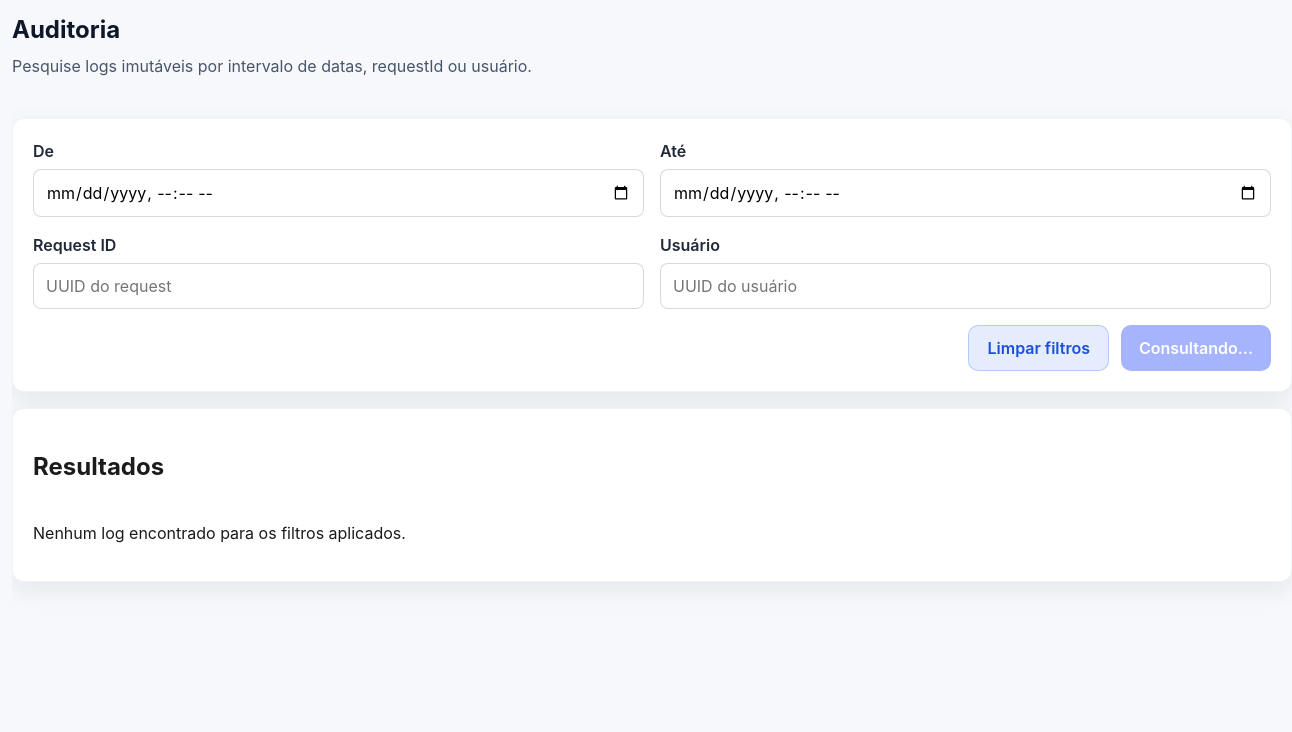
AuditPage › should clear filters when "Limpar filtros" is clicked
The width and height of the screenshot is (1292, 732).
Type "test-id" into the field labelled "Request ID".
click(338, 286); type("test-id")  # box x1=33 y1=263 x2=644 y2=309
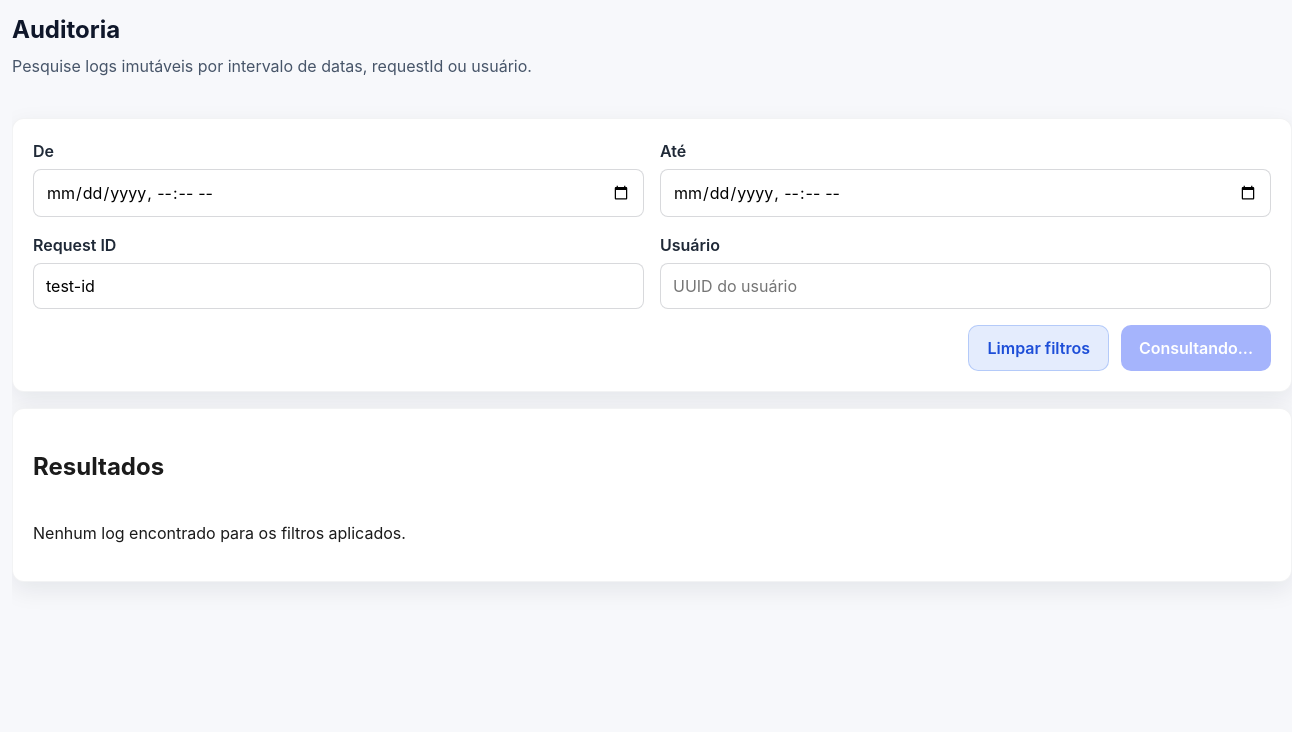
Click the button "Limpar filtros".
click(1039, 348)  # box x1=968 y1=325 x2=1109 y2=371
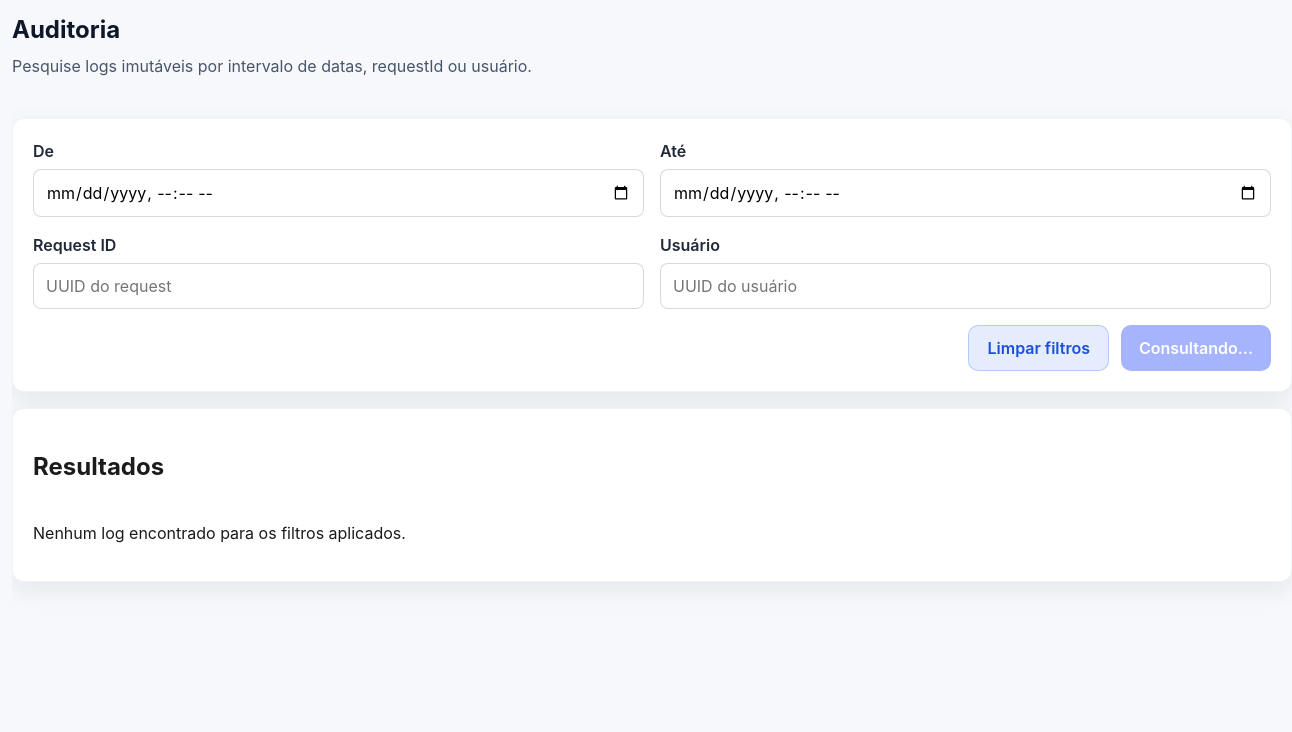
Expected: the field labelled "Request ID" is empty, x1=33 y1=263 x2=644 y2=309
